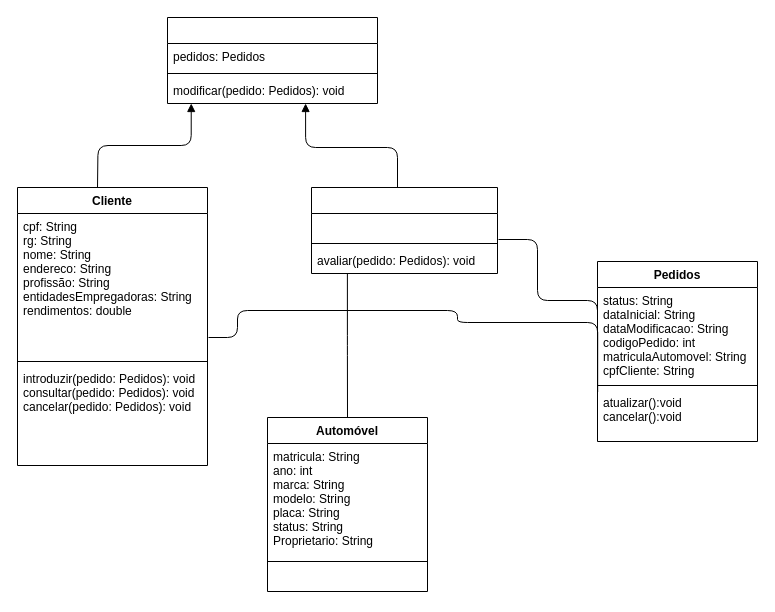
This 775x612 diagram has some shape labels left out. Each missing label, with the box of its shape:
Agente: (310, 186, 498, 274)
Usuário: (166, 16, 378, 104)
